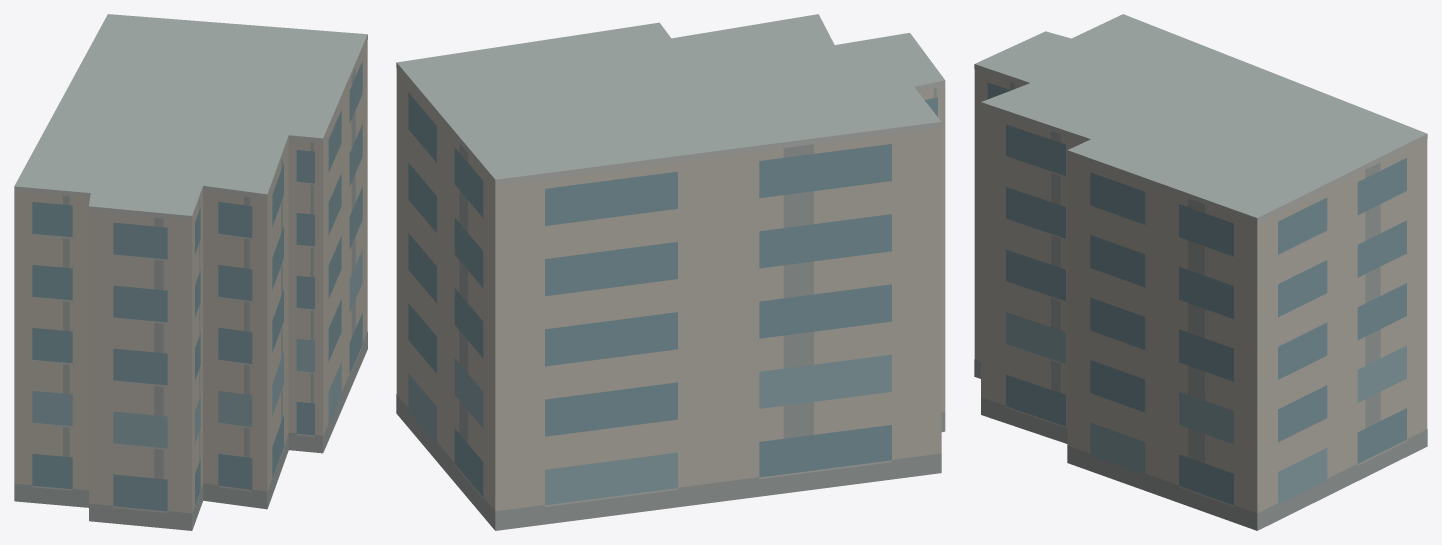
Rendered from survey-upis-32802699.glb.
The picture shows the model from 3 angles, left to right: view 1: azimuth 30°, elevation 25°; view 2: azimuth 150°, elevation 25°; view 3: azimuth 270°, elevation 25°; orthographic projection. The views are drawn at different scales.
Parts seen in each view (by area): view 1: survey-upis-32802699.tmp; view 2: survey-upis-32802699.tmp; view 3: survey-upis-32802699.tmp.
Part boxes in pixels (box(x1,y1,x2,y2)): survey-upis-32802699.tmp: box(14, 14, 367, 530); survey-upis-32802699.tmp: box(396, 14, 945, 530); survey-upis-32802699.tmp: box(974, 14, 1427, 530).
Bounding box in the file's own units: 20.58 × 14.7 × 19.3.
